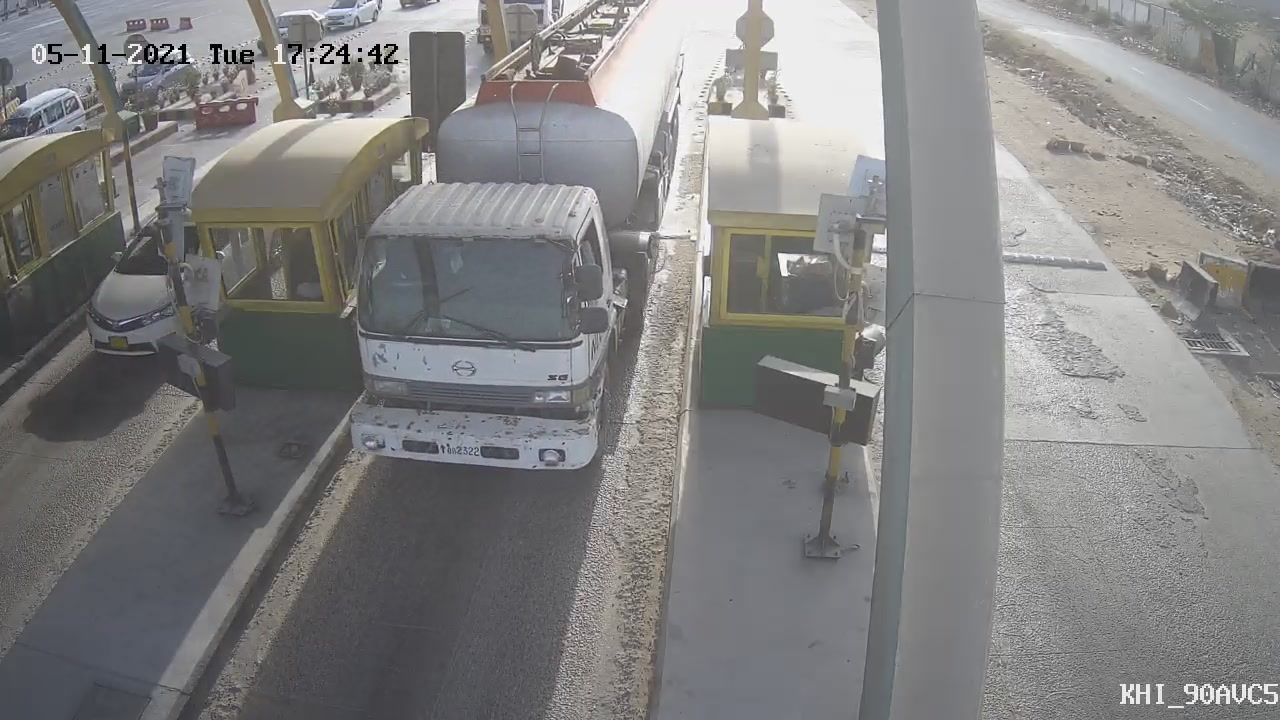F6: (300, 1, 696, 501)
